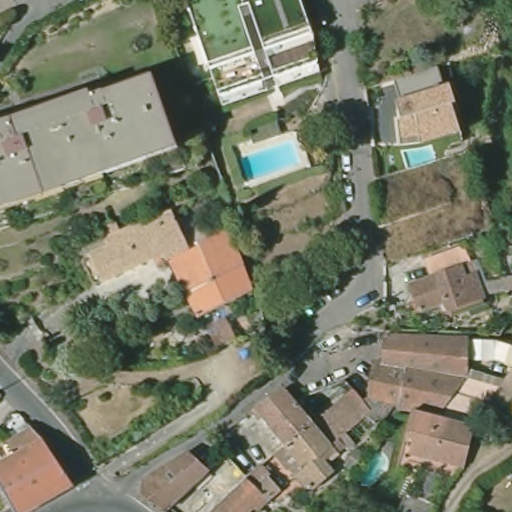pool: (234, 137, 308, 188), (338, 442, 393, 485), (392, 142, 441, 172)
